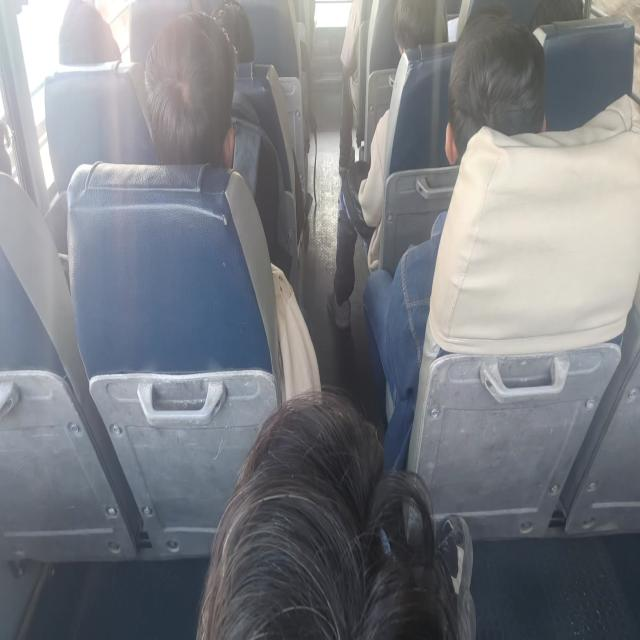person: (362, 10, 547, 471), (143, 8, 322, 403), (196, 387, 476, 638), (326, 0, 449, 329), (143, 10, 237, 168), (57, 0, 121, 66), (211, 0, 255, 63)
